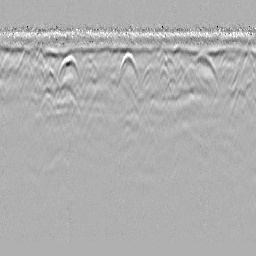cavity: (114, 49, 141, 89)
